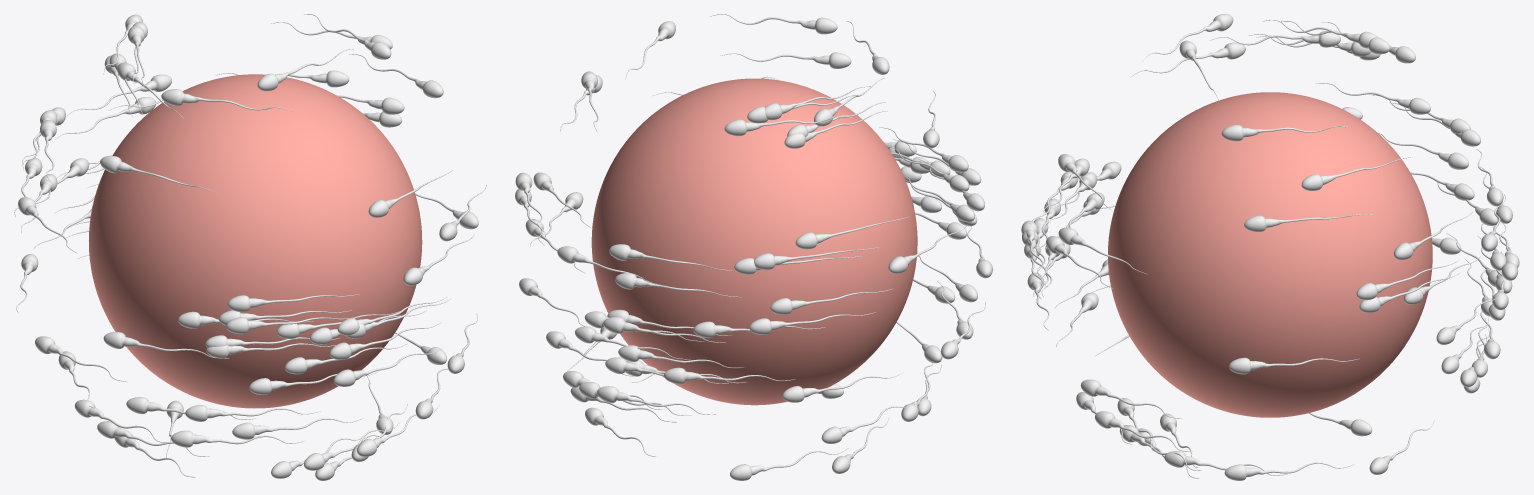
The model's file is Fertilization_Model_Light.glb.
3 views of the same model, side by side, from view 1: azimuth 30°, elevation 25°; view 2: azimuth 150°, elevation 25°; view 3: azimuth 270°, elevation 25° (orthographic). The views are drawn at different scales.
Visible parts, largest first — view 1: Ovum, Sperm_Sperm_0.001, Sperm_Sperm_0.056, Sperm_Sperm_0.067, Sperm_Sperm_0.026, Sperm_Sperm_0.054, Sperm_Sperm_0.049, Sperm_Sperm_0.073, Sperm_Sperm_0.015, Sperm_Sperm_0.051, Sperm_Sperm_0.023, Sperm_Sperm_0.038 (+20 smaller); view 2: Ovum, Sperm_Sperm_0.024, Sperm_Sperm_0.052, Sperm_Sperm_0.055, Sperm_Sperm_0.002, Sperm_Sperm_0.047, Sperm_Sperm_0.018, Sperm_Sperm_0.064, Sperm_Sperm_0.027, Sperm_Sperm_0.004, Sperm_Sperm_0.071, Sperm_Sperm_0.016 (+11 smaller); view 3: Ovum, Sperm_Sperm_0.034, Sperm_Sperm_0.080, Sperm_Sperm_0.058, Sperm_Sperm_0.046, Sperm_Sperm_0.074, Sperm_Sperm_0.037, Sperm_Sperm_0.023, Sperm_Sperm_0.017, Sperm_Sperm_0.041, Sperm_Sperm_0.033, Sperm_Sperm_0.050 (+3 smaller).
Part boxes in pixels (x1,y1,x2,y2): Ovum: [89, 74, 422, 408]; Sperm_Sperm_0.001: [171, 430, 305, 447]; Sperm_Sperm_0.056: [185, 405, 320, 421]; Sperm_Sperm_0.067: [226, 316, 358, 334]; Sperm_Sperm_0.026: [227, 294, 360, 312]; Sperm_Sperm_0.054: [232, 418, 363, 439]; Sperm_Sperm_0.049: [161, 89, 293, 111]; Sperm_Sperm_0.073: [103, 332, 229, 358]; Sperm_Sperm_0.015: [284, 343, 407, 374]; Sperm_Sperm_0.051: [249, 371, 379, 394]; Sperm_Sperm_0.023: [100, 155, 216, 192]; Sperm_Sperm_0.038: [333, 347, 443, 386]; Ovum: [591, 78, 917, 405]; Sperm_Sperm_0.024: [664, 367, 795, 384]; Sperm_Sperm_0.052: [709, 14, 837, 34]; Sperm_Sperm_0.055: [720, 52, 851, 68]; Sperm_Sperm_0.002: [724, 116, 851, 136]; Sperm_Sperm_0.047: [618, 345, 744, 368]; Sperm_Sperm_0.018: [749, 312, 876, 334]; Sperm_Sperm_0.064: [609, 244, 733, 271]; Sperm_Sperm_0.027: [754, 247, 878, 269]; Sperm_Sperm_0.004: [770, 288, 893, 314]; Sperm_Sperm_0.071: [782, 372, 903, 402]; Sperm_Sperm_0.016: [615, 273, 740, 297]; Ovum: [1108, 92, 1432, 417]; Sperm_Sperm_0.034: [1224, 462, 1354, 480]; Sperm_Sperm_0.080: [1244, 214, 1372, 232]; Sperm_Sperm_0.058: [1229, 357, 1359, 374]; Sperm_Sperm_0.046: [1221, 125, 1351, 141]; Sperm_Sperm_0.074: [1209, 31, 1340, 47]; Sperm_Sperm_0.037: [1315, 83, 1430, 114]; Sperm_Sperm_0.023: [1130, 42, 1245, 77]; Sperm_Sperm_0.017: [1301, 157, 1411, 190]; Sperm_Sperm_0.041: [1164, 451, 1287, 475]; Sperm_Sperm_0.033: [1080, 379, 1182, 418]; Sperm_Sperm_0.050: [1356, 260, 1458, 300].
Bounding box in the file's own units: 5.76 × 5.35 × 6.1.
2 materials, 1 textured.
